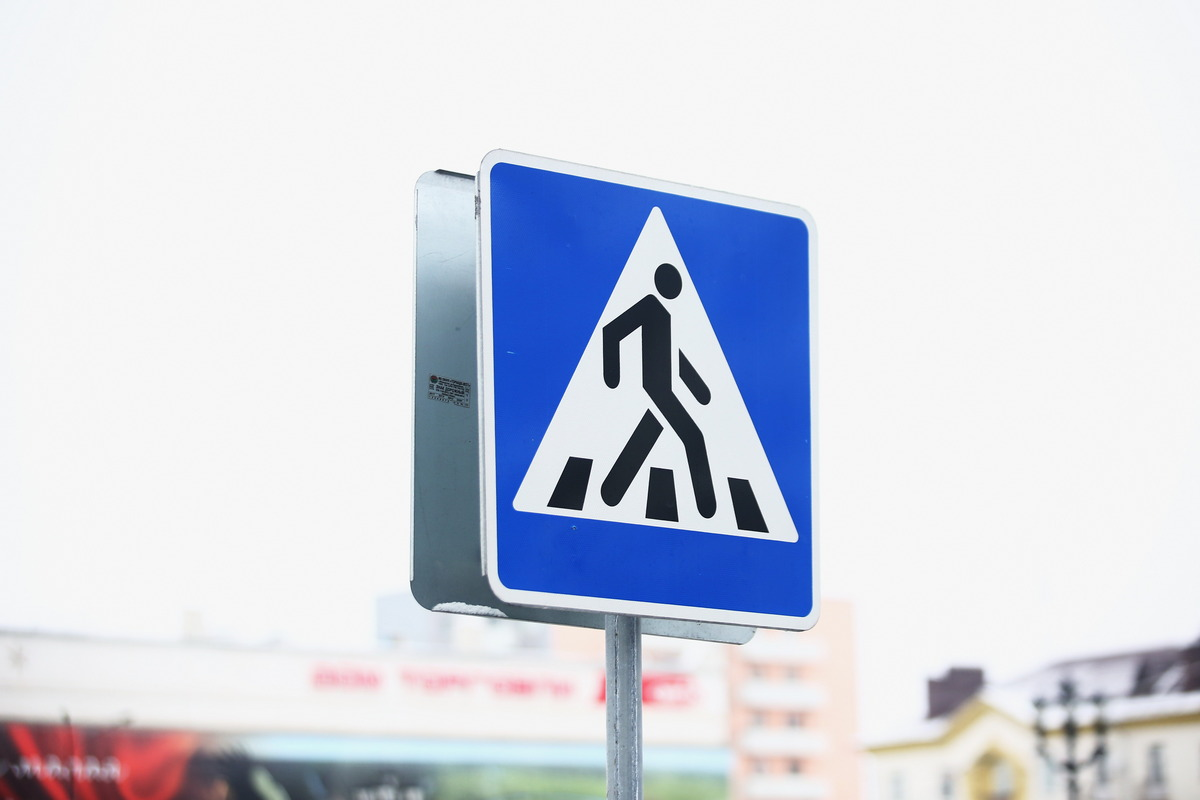yaya_gecidi: (478, 150, 823, 629)
